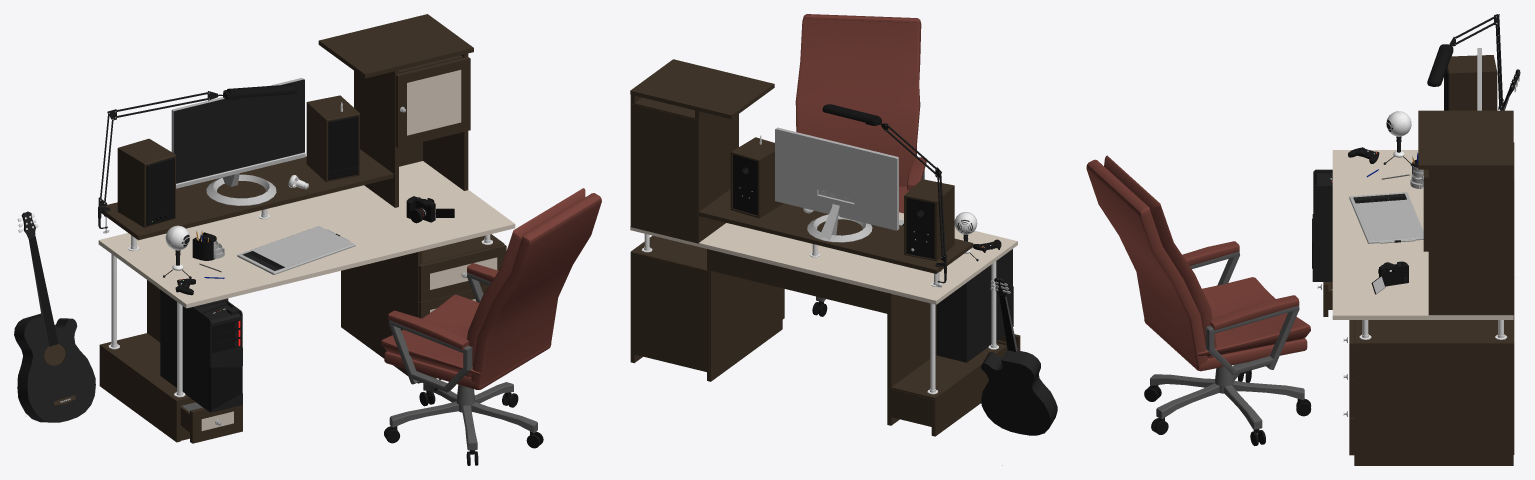
Rendered from workspace.glb.
3 views of the same model, side by side, from view 1: azimuth 30°, elevation 25°; view 2: azimuth 150°, elevation 25°; view 3: azimuth 270°, elevation 25° (orthographic). The views are drawn at different scales.
Parts seen in each view (by area): view 1: stol, pCube86, monitor, polySurface3, polySurface124, L_kolonka, pCube5, R_kolonka, planshet, trubki_stola, pCube7, polySurface11 (+5 smaller); view 2: stol, pCube86, monitor, polySurface3, L_kolonka, R_kolonka, pCube5, pCube36, trubki_stola, polySurface107, polySurface11, polySurface62.001; view 3: stol, pCube86, polySurface124, planshet, L_kolonka, pCube5, pCylinder125, polySurface62.001, polySurface107.
Part boxes in pixels (x1,y1,x2,y2): stol: [98, 14, 515, 443]; pCube86: [381, 188, 601, 389]; monitor: [171, 78, 305, 205]; polySurface3: [14, 313, 95, 422]; polySurface124: [388, 273, 537, 450]; L_kolonka: [117, 138, 175, 227]; pCube5: [160, 290, 242, 412]; R_kolonka: [306, 95, 359, 181]; planshet: [237, 226, 355, 274]; trubki_stola: [108, 209, 492, 397]; pCube7: [209, 366, 241, 410]; polySurface11: [28, 237, 58, 346]; stol: [630, 59, 1020, 436]; pCube86: [795, 14, 926, 213]; monitor: [775, 127, 899, 242]; polySurface3: [981, 350, 1057, 435]; L_kolonka: [904, 179, 954, 261]; R_kolonka: [730, 137, 783, 218]; pCube5: [936, 249, 1012, 362]; pCube36: [938, 283, 965, 362]; trubki_stola: [641, 234, 998, 394]; polySurface107: [822, 104, 881, 125]; polySurface11: [999, 296, 1017, 351]; polySurface62.001: [954, 212, 978, 261]; stol: [1317, 110, 1514, 465]; pCube86: [1086, 155, 1310, 371]; polySurface124: [1150, 251, 1304, 429]; planshet: [1349, 192, 1423, 243]; L_kolonka: [1444, 55, 1497, 110]; pCube5: [1313, 169, 1332, 281]; pCylinder125: [1371, 261, 1408, 294]; polySurface62.001: [1383, 111, 1411, 165]; polySurface107: [1427, 44, 1453, 86].
Bounding box in the file's own units: 7.73 × 5.3 × 6.54.
